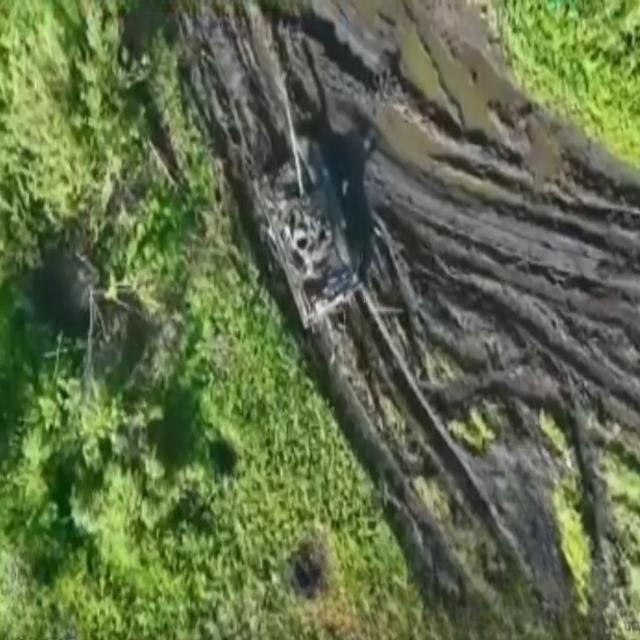MBT: (256, 84, 365, 334)
